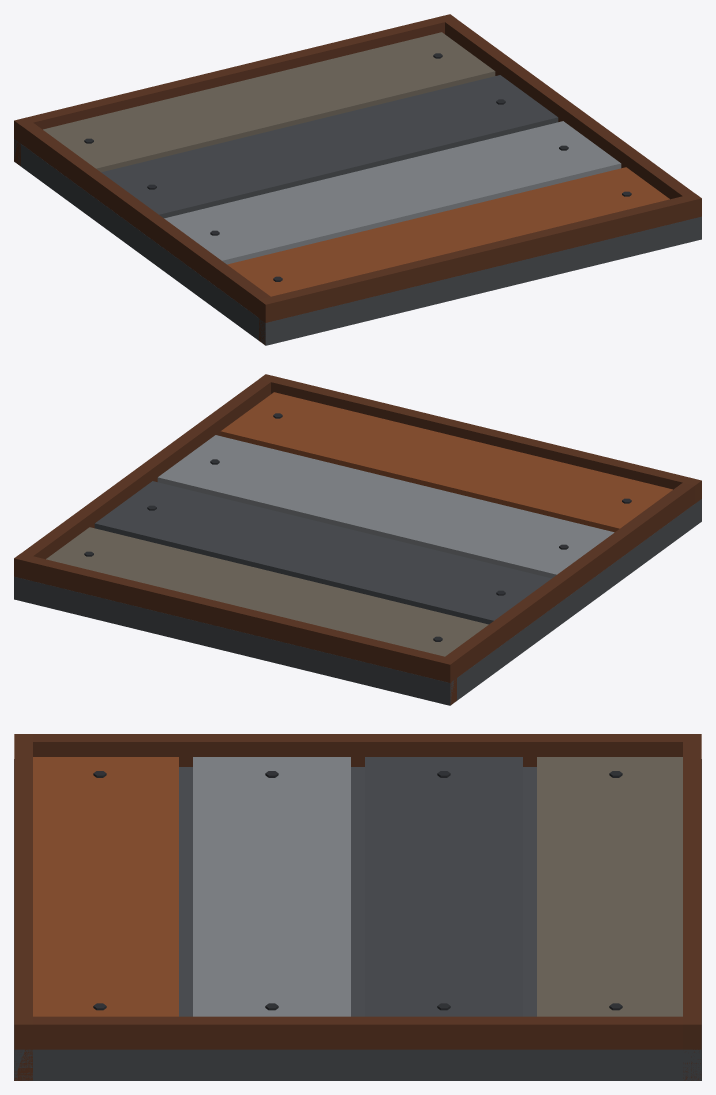
The model's file is piece_roof_flat.fbx.
3 views of the same model, one above another, from view 1: azimuth 30°, elevation 25°; view 2: azimuth 150°, elevation 25°; view 3: azimuth 270°, elevation 25° (orthographic). The views are drawn at different scales.
Parts seen in each view (by area): view 1: piece_roof_flat; view 2: piece_roof_flat; view 3: piece_roof_flat.
Boxes of the visible parts, x1,y1,x2,y2 form: piece_roof_flat: (14,14,701,345); piece_roof_flat: (14,374,701,705); piece_roof_flat: (14,734,701,1080).
Bounding box in the file's own units: 2 × 0.18 × 2.
